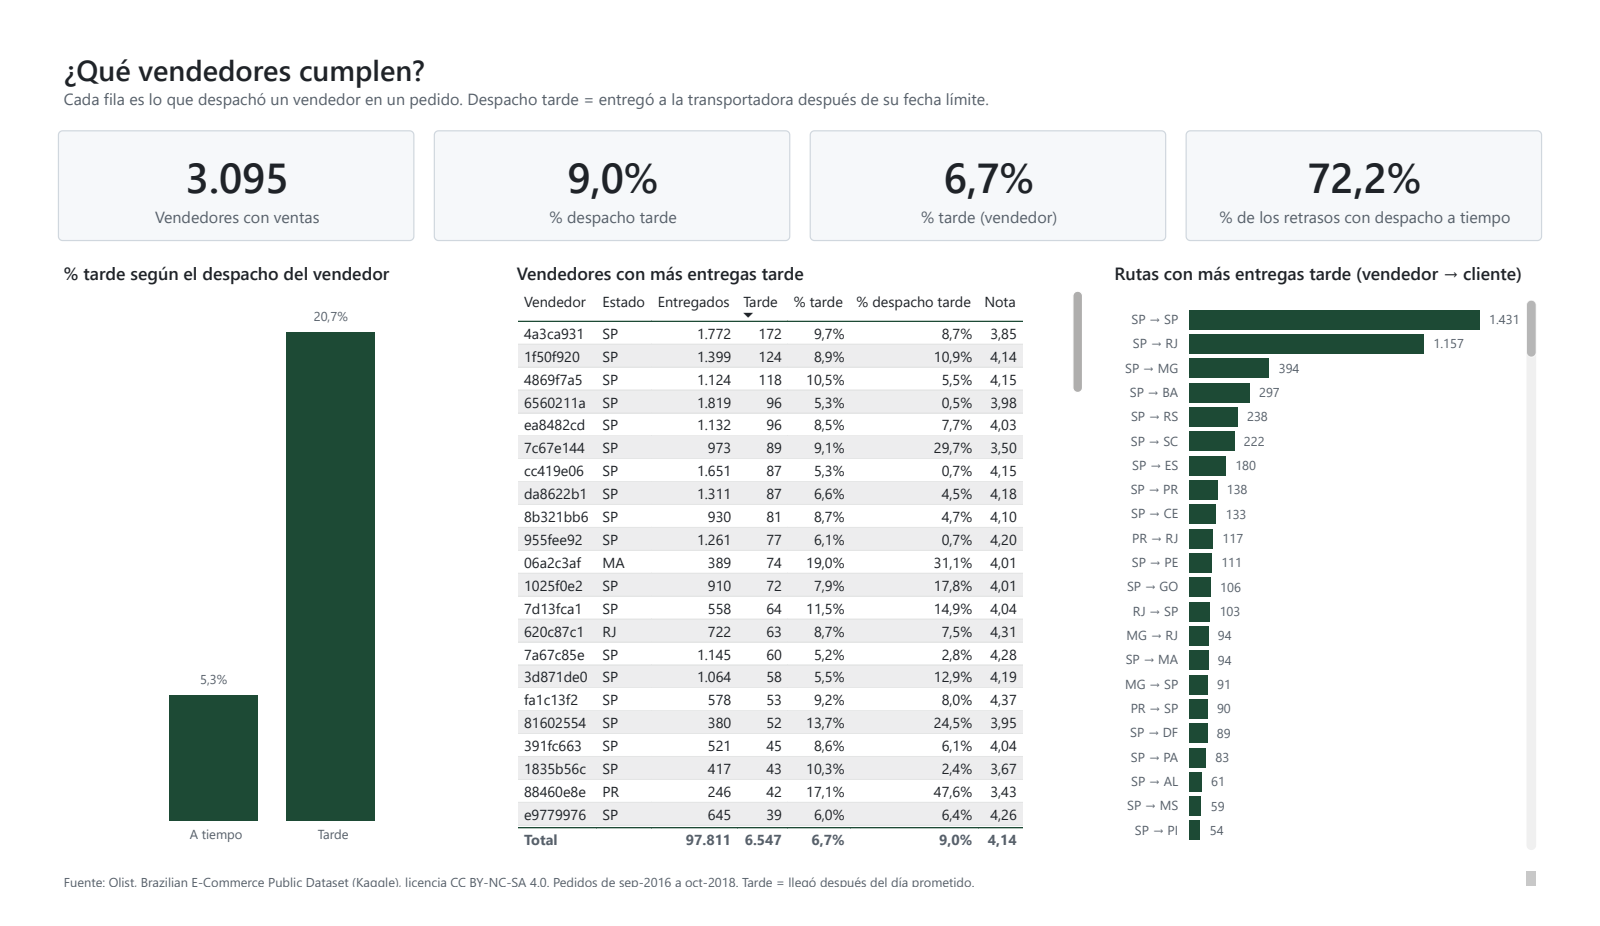

What the dashboard file says about the page in this screenshot:
{"tool":"powerbi","page":{"name":"Vendedores","canvas":[1280,720],"ordinal":1},"visuals":[{"type":"textbox","box":[24,12,1232,64],"z":0},{"type":"textbox","box":[24,694,1232,22],"z":1000},{"type":"card","fields":{"Values":["Medidas.Vendedores con ventas"]},"box":[24,84,296,92],"z":2000},{"type":"card","fields":{"Values":["Medidas.% despacho tarde"]},"box":[336,84,296,92],"z":3000},{"type":"card","fields":{"Values":["Medidas.% tarde (vendedor)"]},"box":[648,84,296,92],"z":4000},{"type":"card","fields":{"Values":["Medidas.% de los retrasos con despacho a tiempo"]},"box":[960,84,296,92],"z":5000},{"type":"clusteredColumnChart","title":"% tarde según el despacho del vendedor","fields":{"Category":["PedidoVendedor.despacho"],"Y":["Medidas.% tarde (vendedor)"]},"box":[24,192,360,494],"z":6000},{"type":"tableEx","title":"Vendedores con más entregas tarde","fields":{"Values":["Vendedores.vendedor_corto","Vendedores.estado_vendedor","Medidas.Pedidos de vendedor entregados","Medidas.Pedidos de vendedor tarde","Medidas.% tarde (vendedor)","Medidas.% despacho tarde","Medidas.Nota (vendedor)"]},"box":[400,192,480,494],"z":7000},{"type":"clusteredBarChart","title":"Rutas con más entregas tarde (vendedor → cliente)","fields":{"Category":["PedidoVendedor.ruta"],"Y":["Medidas.Pedidos de vendedor tarde"]},"box":[896,192,360,494],"z":8000}]}

Visuals, with their boxes in screenshot pixels (x1, y1, x2, y2), scaled from the page's 1280x720 canvas onto the 1600x926 screenshot:
textbox: bbox=(30, 15, 1570, 98)
textbox: bbox=(30, 893, 1570, 921)
card - Medidas.Vendedores con ventas: bbox=(30, 108, 400, 226)
card - Medidas.% despacho tarde: bbox=(420, 108, 790, 226)
card - Medidas.% tarde (vendedor): bbox=(810, 108, 1180, 226)
card - Medidas.% de los retrasos con despacho a tiempo: bbox=(1200, 108, 1570, 226)
"% tarde según el despacho del vendedor" clusteredColumnChart: bbox=(30, 247, 480, 882)
"Vendedores con más entregas tarde" tableEx: bbox=(500, 247, 1100, 882)
"Rutas con más entregas tarde (vendedor → cliente)" clusteredBarChart: bbox=(1120, 247, 1570, 882)
